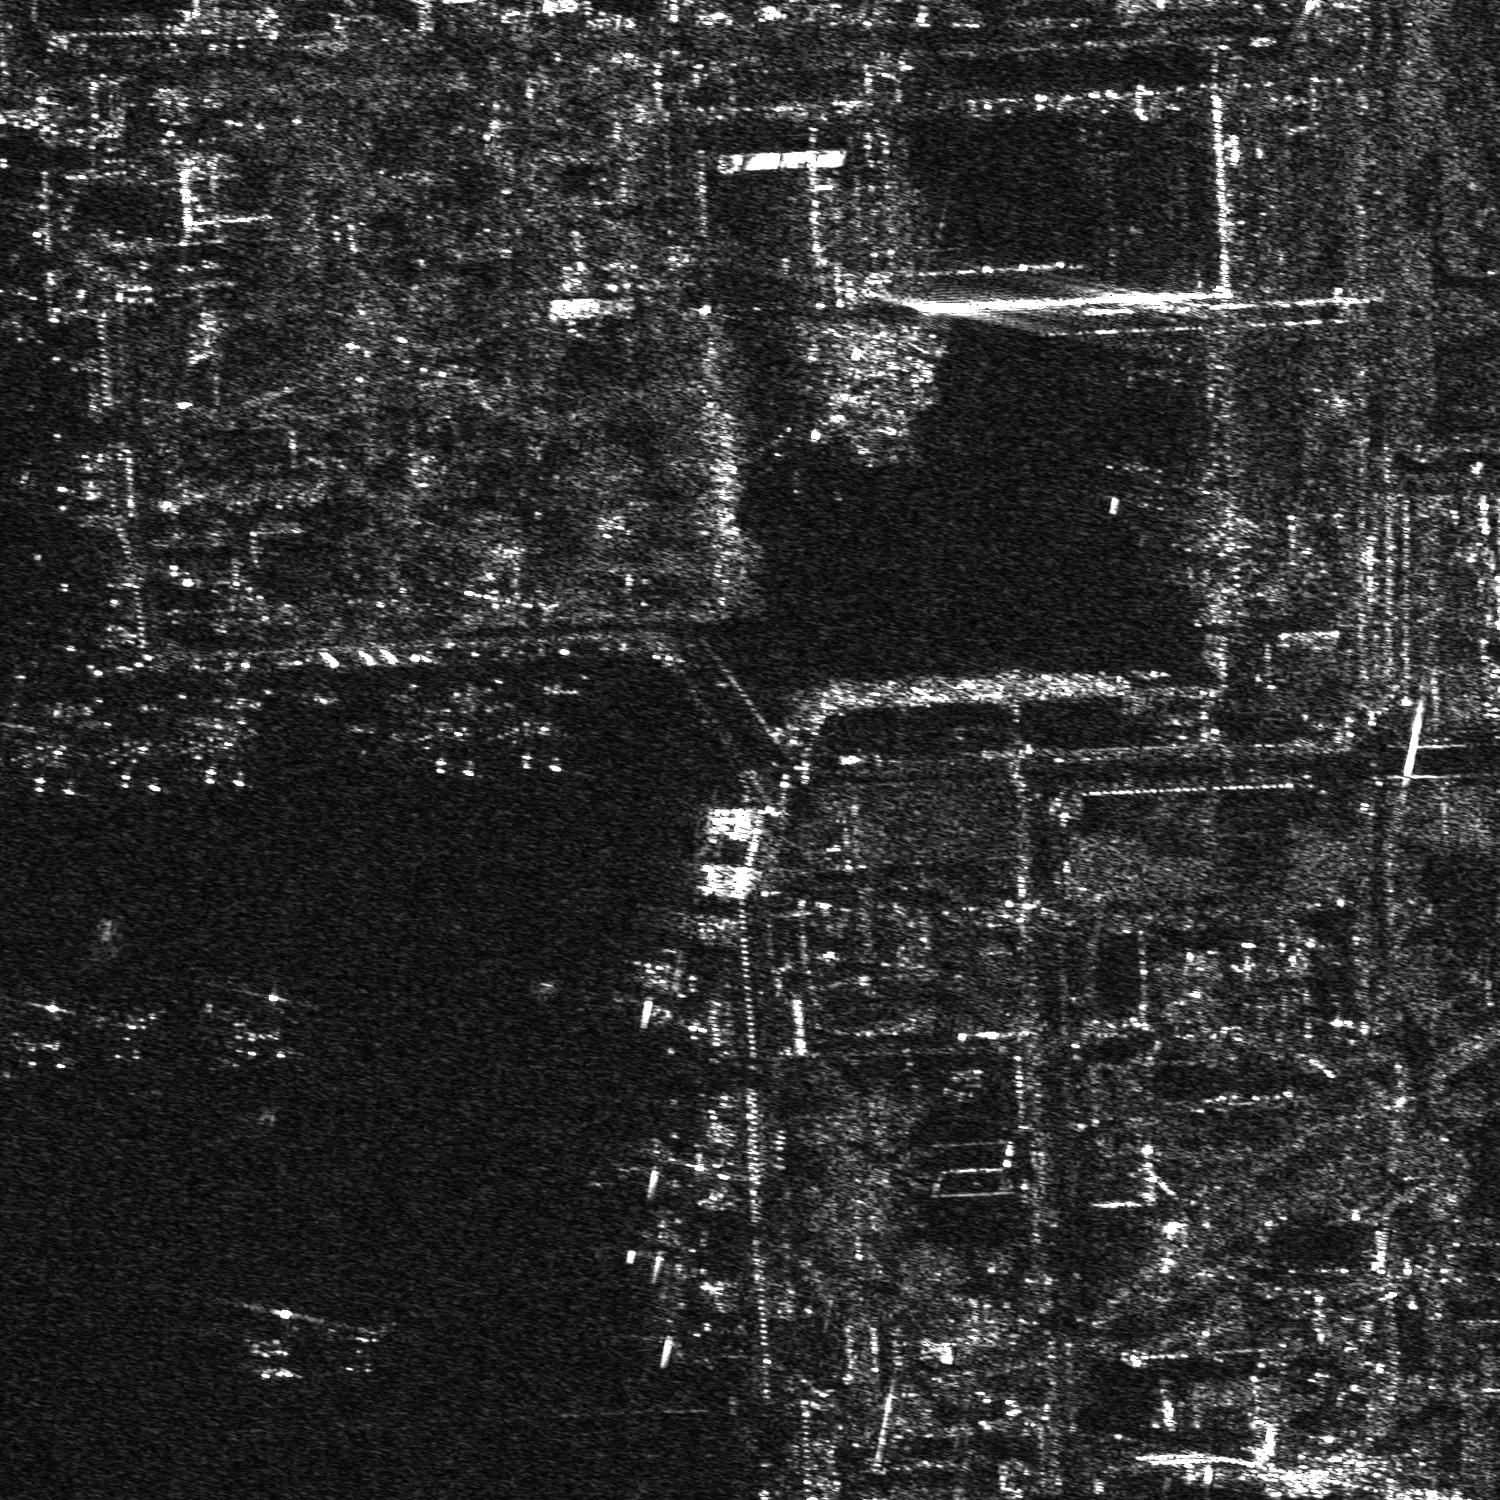A220: (1104, 448, 1169, 512), (328, 1315, 393, 1376)
ARJ21: (409, 692, 475, 779)
Boeing737: (489, 681, 580, 776), (7, 706, 91, 795), (98, 702, 176, 793)
other: (216, 1295, 326, 1387), (205, 979, 304, 1065), (179, 696, 262, 791), (93, 995, 179, 1069)
